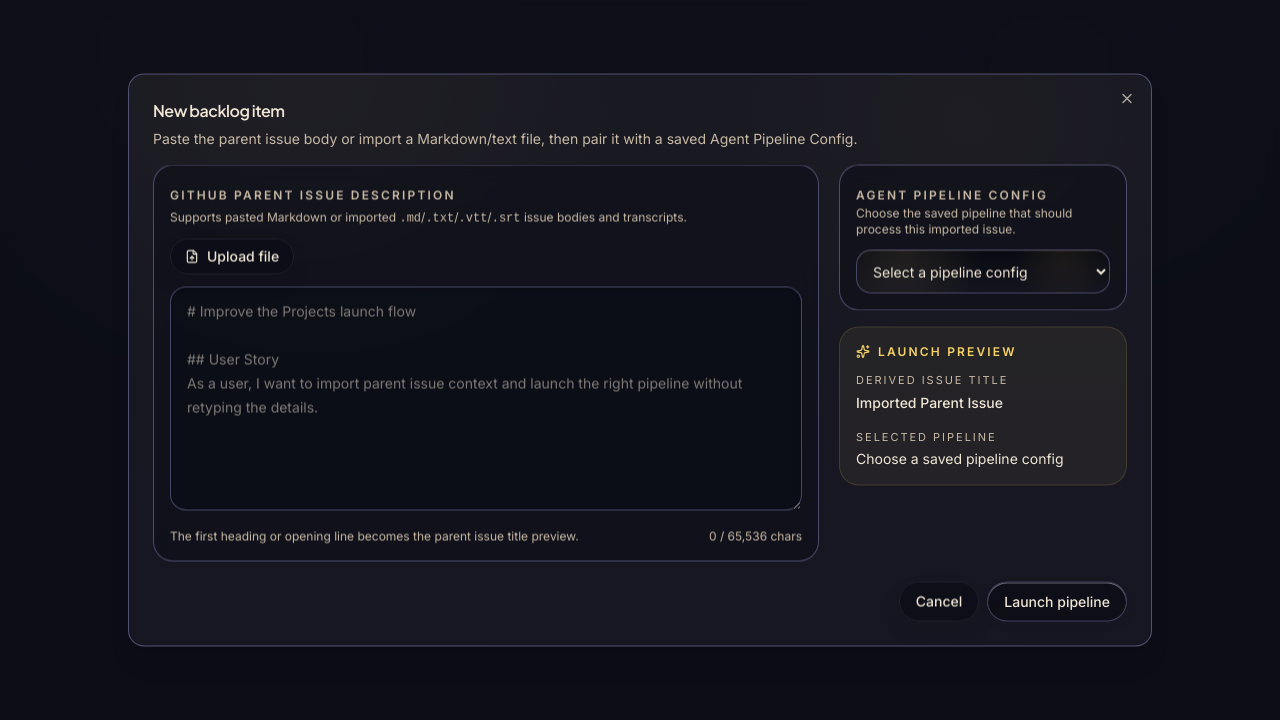
Test: NewBacklogItemDialog › keeps the dialog open and shows the error when launch fails
Type "# Retry me" into the text box labelled "GitHub Parent Issue Description" at (486, 398), box 170,286 -> 802,510
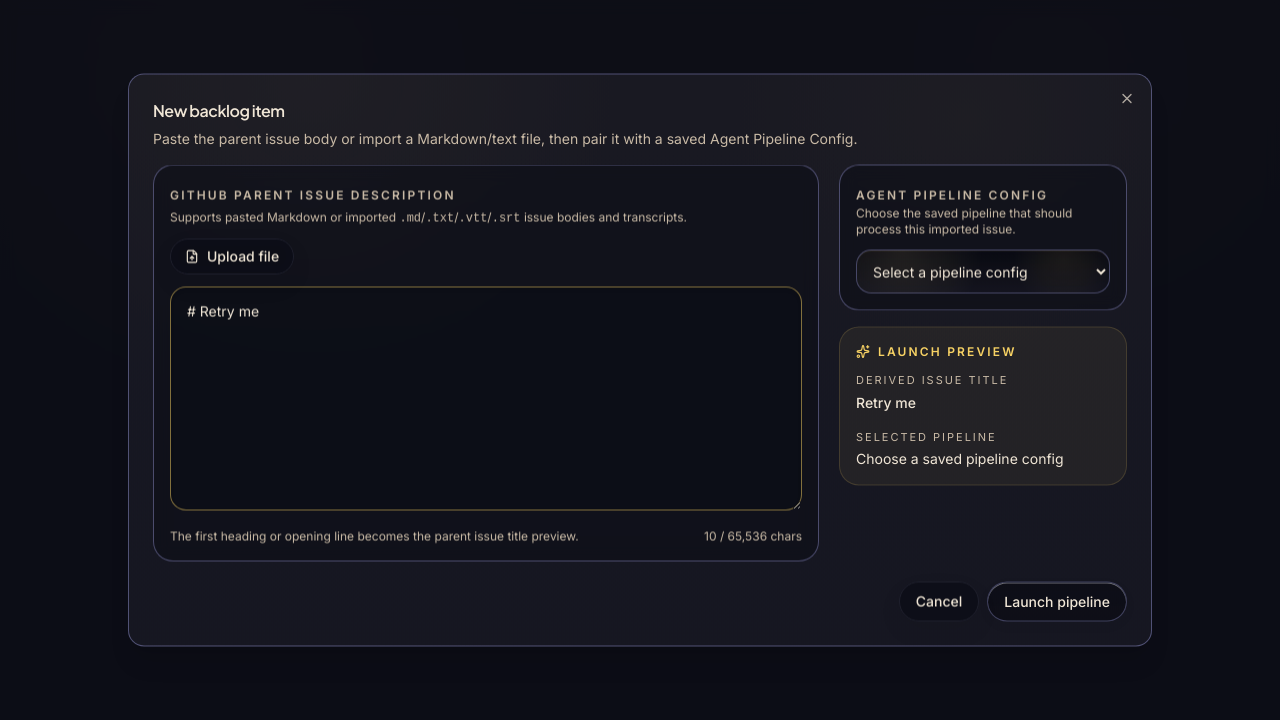
Select "Spec Kit Flow" in the dropdown labelled "Agent Pipeline Config" at (983, 272), box 856,250 -> 1110,294
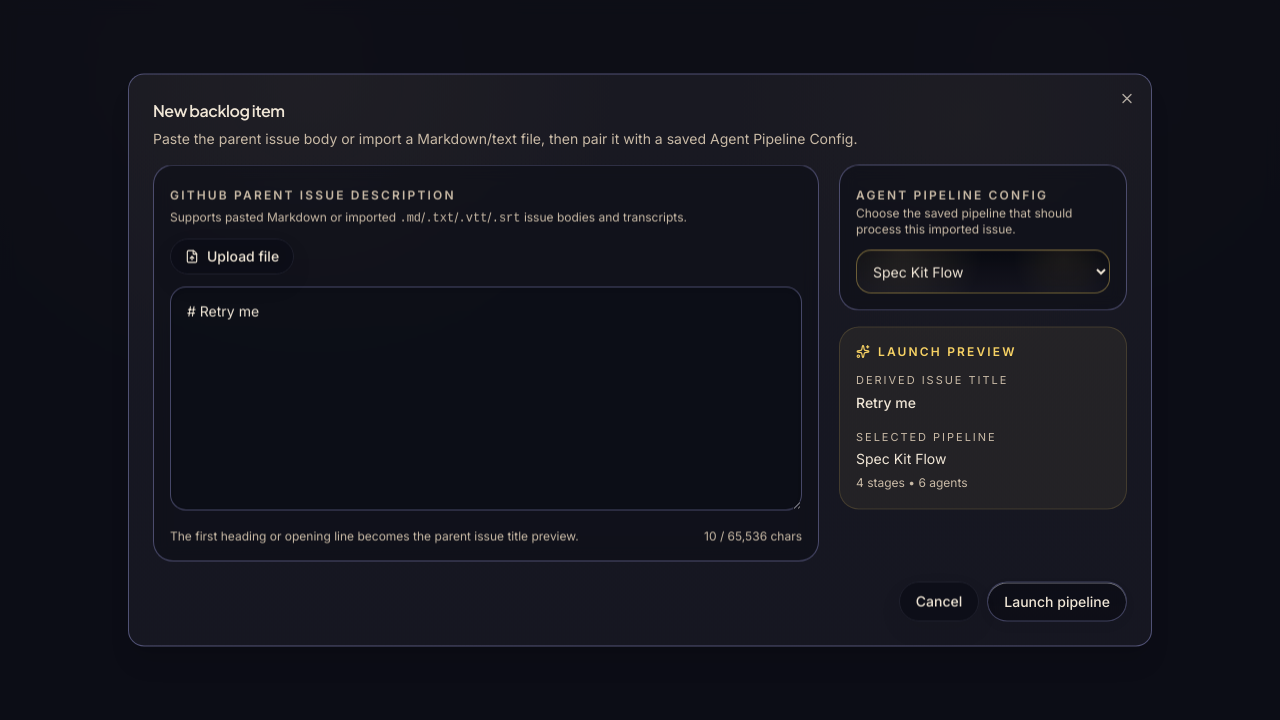
Click the button "Launch pipeline" at (1057, 602), box 987,582 -> 1127,622
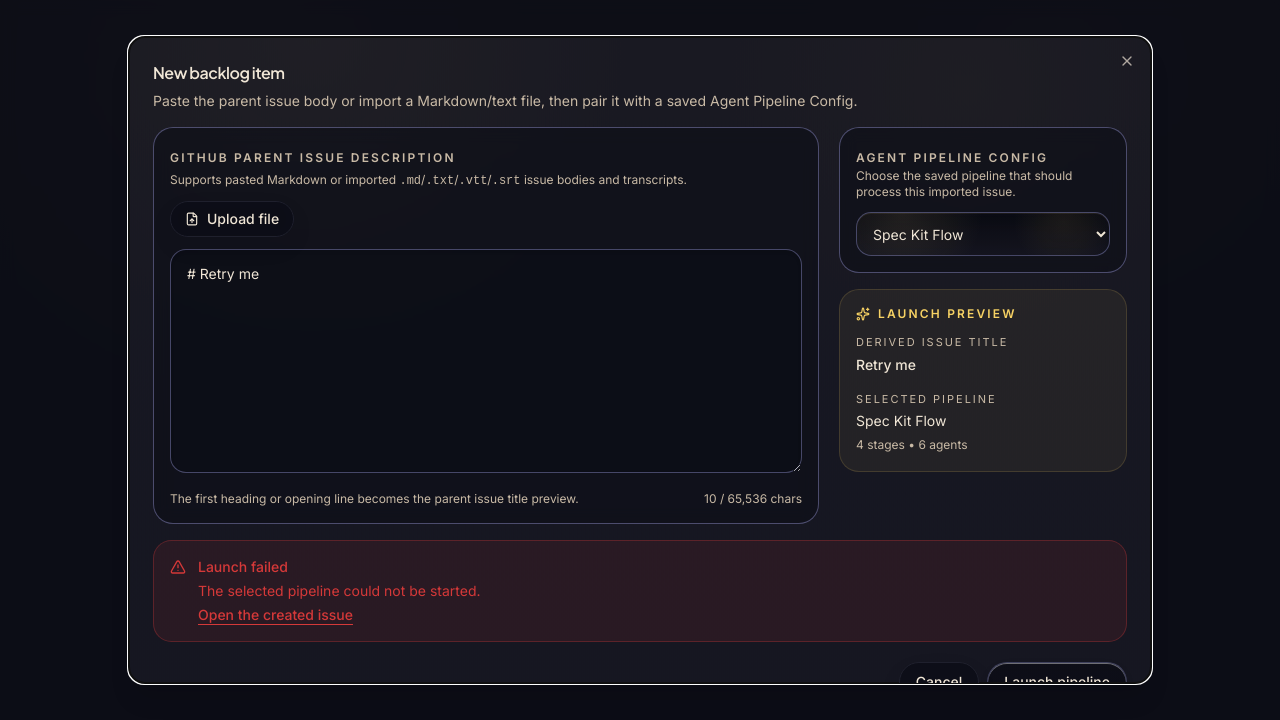
Expected: the text "Launch failed" is shown, 198,558 -> 288,575
Expected: the text "The selected pipeline could not be started." is shown, 198,582 -> 480,599
